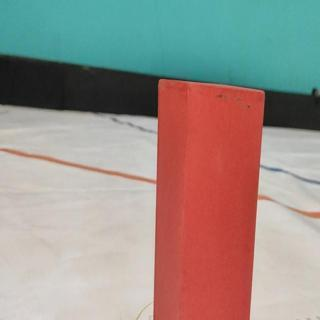redbox: (153, 79, 264, 320)
